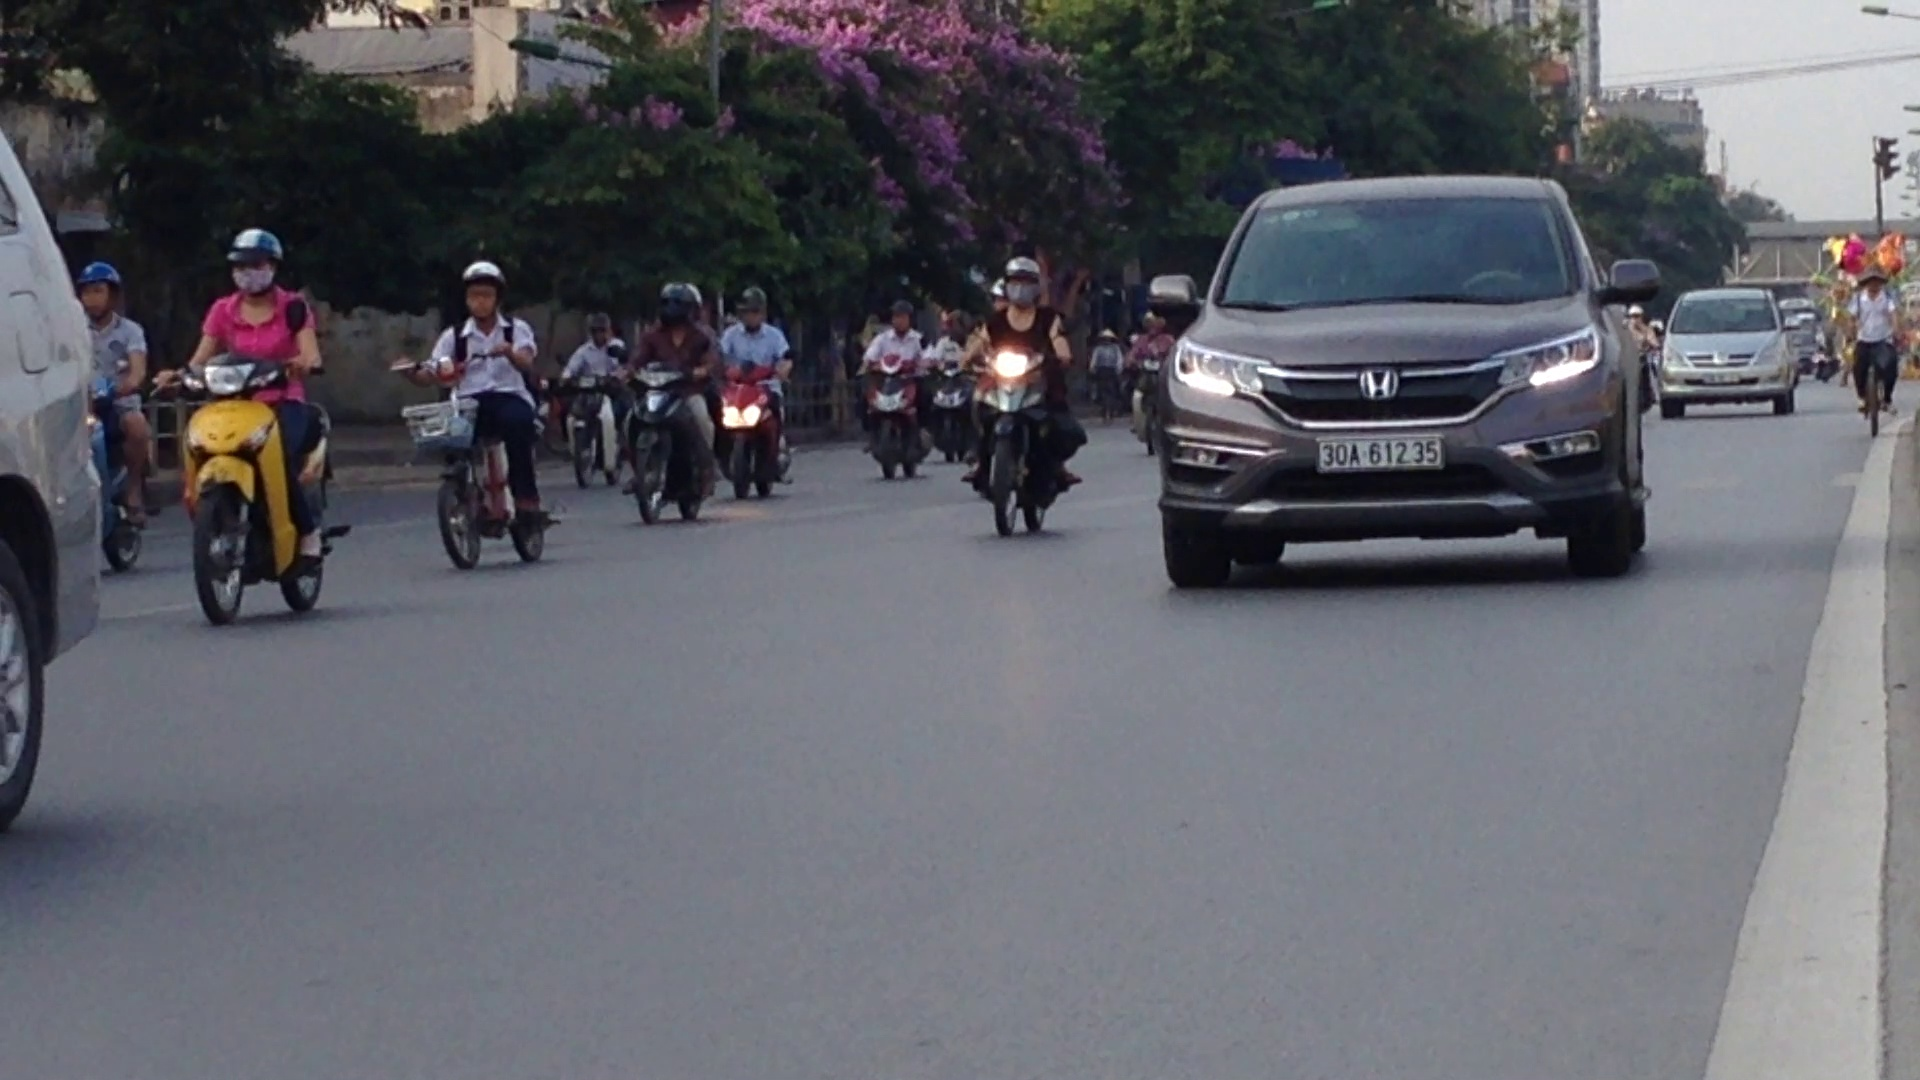vehicle-plate: (1311, 429, 1446, 472)
